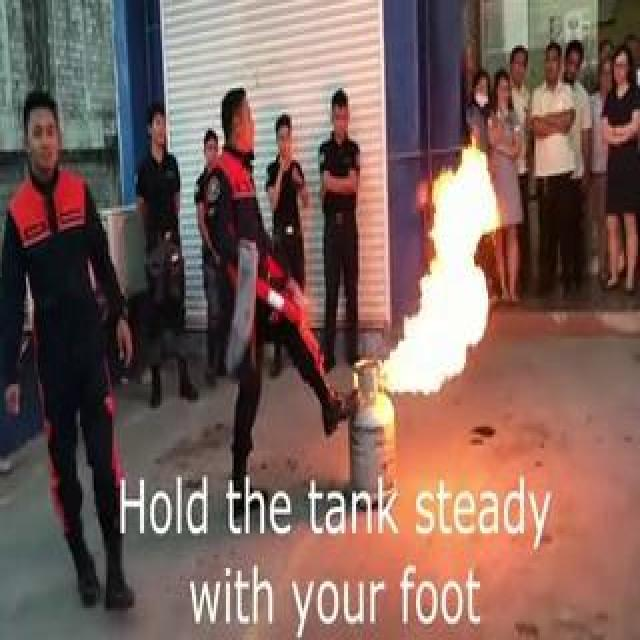Fire: (371, 88, 507, 411)
